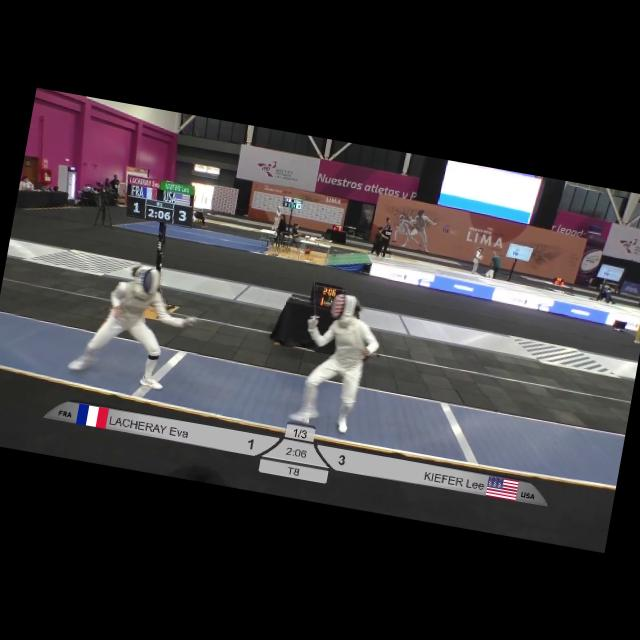blade: (294, 255, 332, 328)
